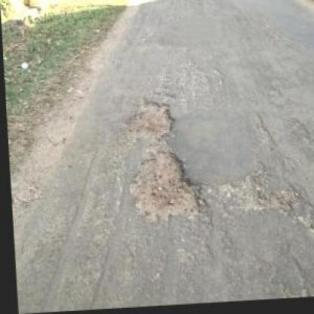Hueco: (124, 149, 202, 225), (223, 172, 299, 216), (122, 99, 175, 142)
